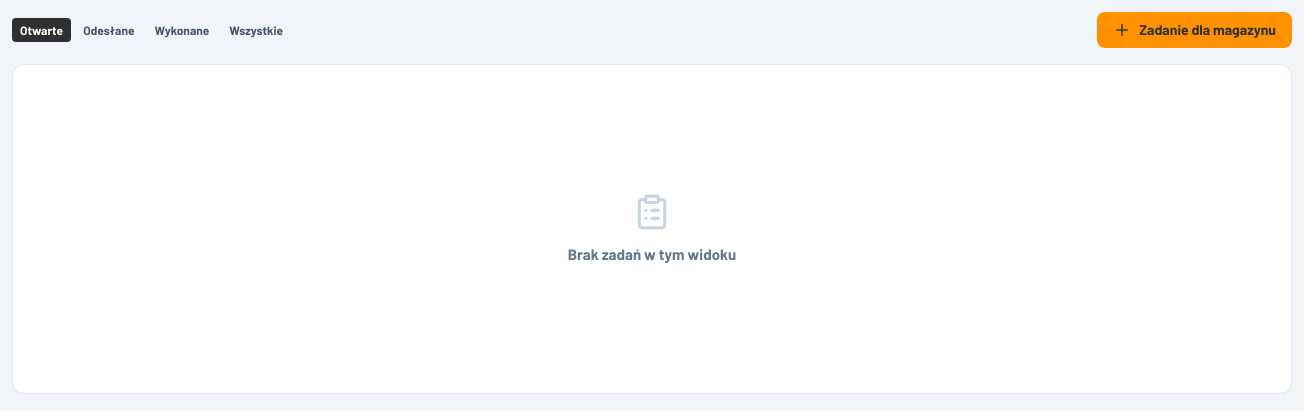
it: Zadania terenowe — droga powrotna z hali › zadanie zamknięte wraca do znacznika — wiek historii nie jest zaległością
This screenshot has width=1304, height=411.
Click the button "Wykonane": (182, 30) 146,18 -> 217,42
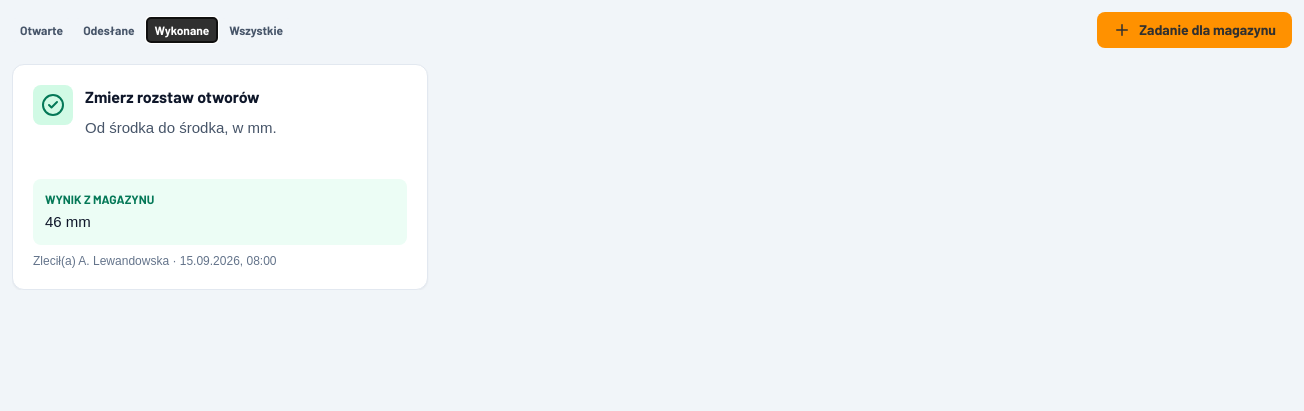
Now the text "46 mm" is shown, box 45,213 -> 91,230
Now the text "Zlecił(a) A. Lewandowska · 15.09.2026, 08:00" is shown, box 33,254 -> 276,268
